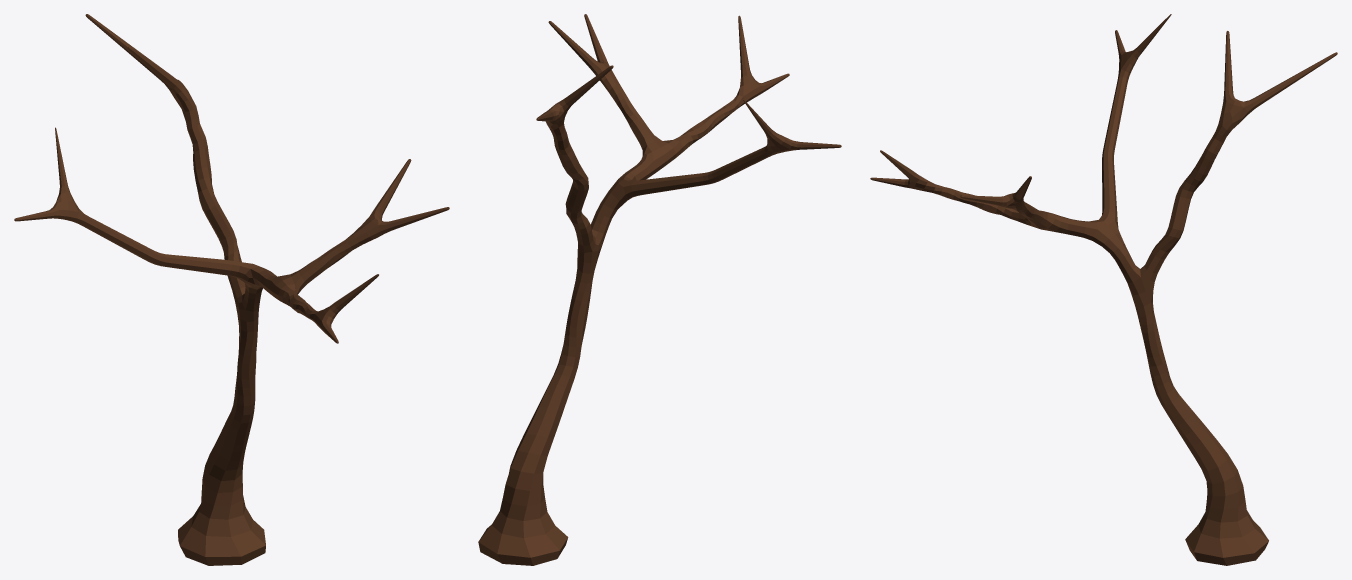
The model's file is Tree.fbx.
3 renders of one model, left to right at view 1: azimuth 30°, elevation 25°; view 2: azimuth 150°, elevation 25°; view 3: azimuth 270°, elevation 25°, orthographic. The views are drawn at different scales.
Parts seen in each view (by area): view 1: tree; view 2: tree; view 3: tree.
Boxes of the visible parts, x1,y1,x2,y2 form: tree: (14,14,449,565); tree: (478,14,841,565); tree: (870,14,1337,565).
Size of the model in its own units: 457 by 658 by 579.
